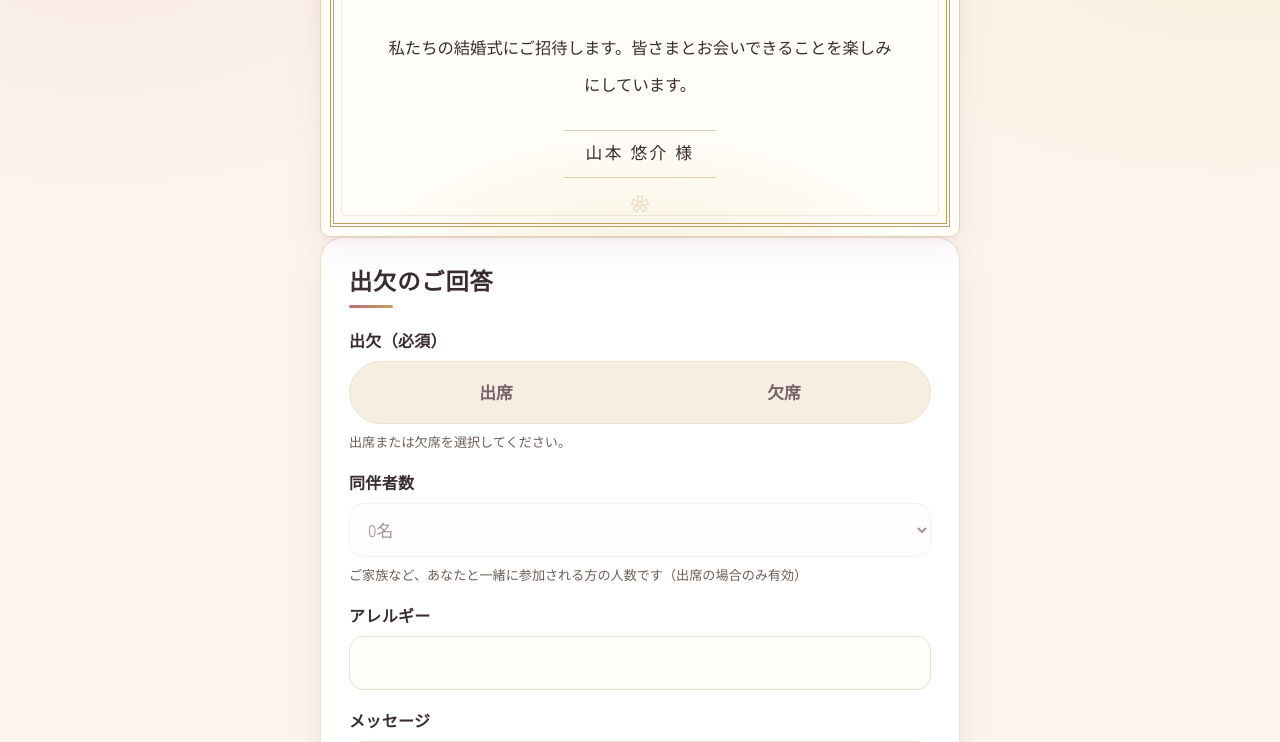
RSVP public page (local mode) › keeps the confirmation screen after submitting (does not bounce back to the form)
(page scrolled)
What coordinates should you click on to do the following:
click the button "欠席"
I would click on:
 (784, 393)
Its box is [642,366,926,419].
(page scrolled)
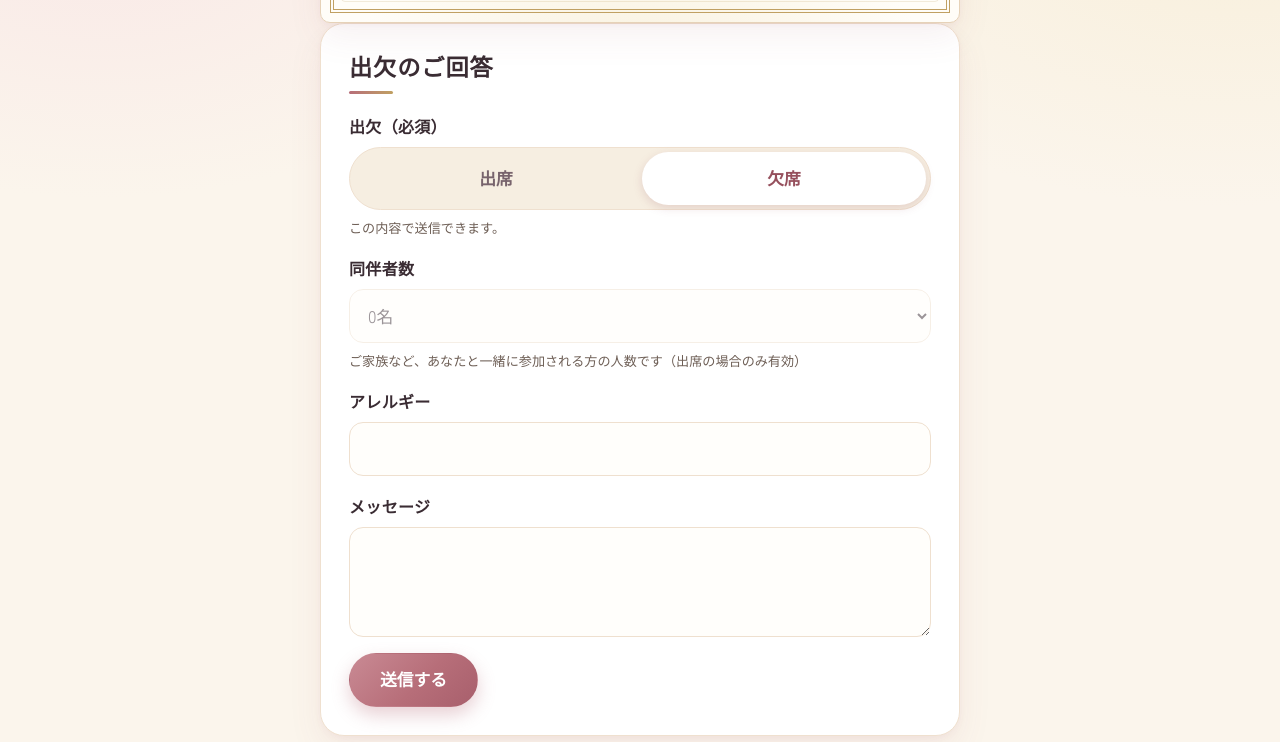
What coordinates should you click on to do the following:
click the button "送信する"
I would click on:
 (414, 680)
Its box is [349,653,478,707].
(page scrolled)
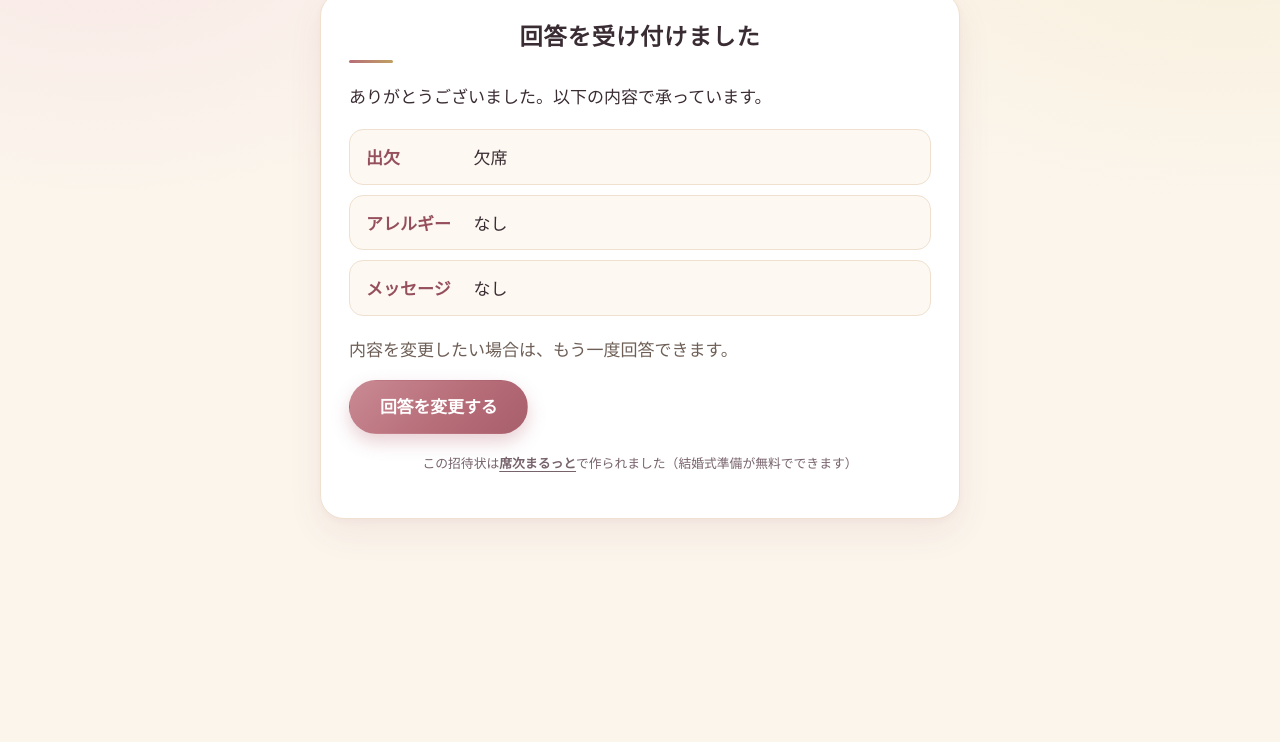
Result: the heading "回答を受け付けました" is shown at [519,24,761,50]
Result: the button "送信する" is gone
